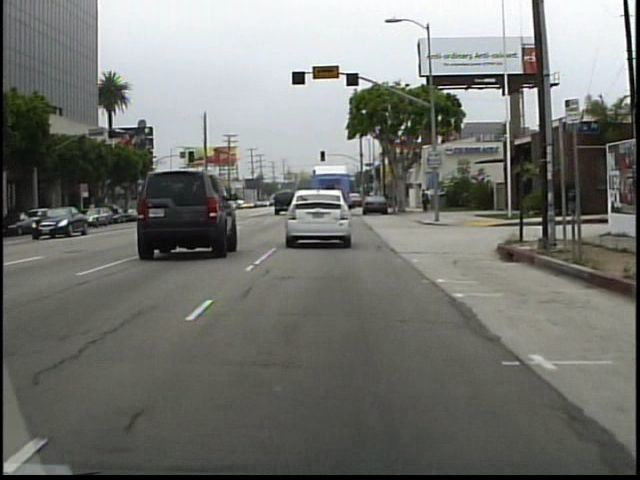person: (419, 189, 430, 214), (426, 187, 433, 213)
